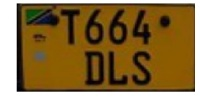T: (58, 8, 82, 46)
